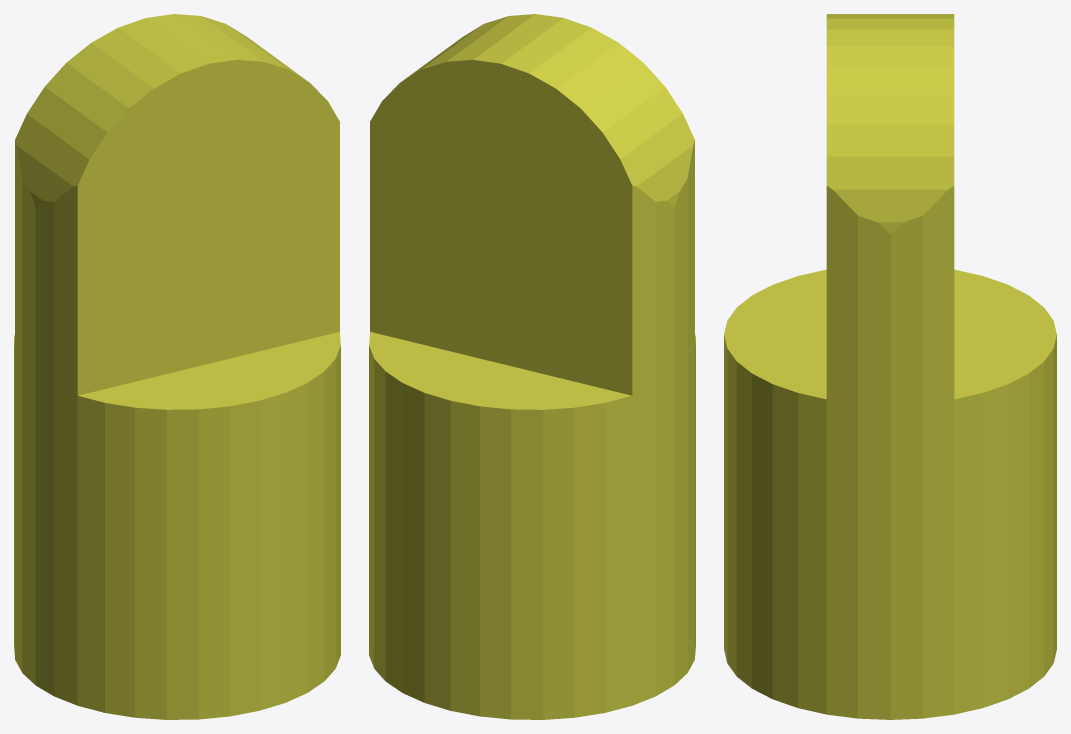
3 views of the same model, side by side, from view 1: azimuth 30°, elevation 25°; view 2: azimuth 150°, elevation 25°; view 3: azimuth 270°, elevation 25° (orthographic).
Parts seen in each view (by area): view 1: link_4_visual; view 2: link_4_visual; view 3: link_4_visual.
Part boxes in pixels (<box>): link_4_visual: <box>14,14,340,719</box>; link_4_visual: <box>369,14,695,719</box>; link_4_visual: <box>724,14,1056,719</box>.
Size of the model in its own units: 0.8 by 0.8 by 1.64.
